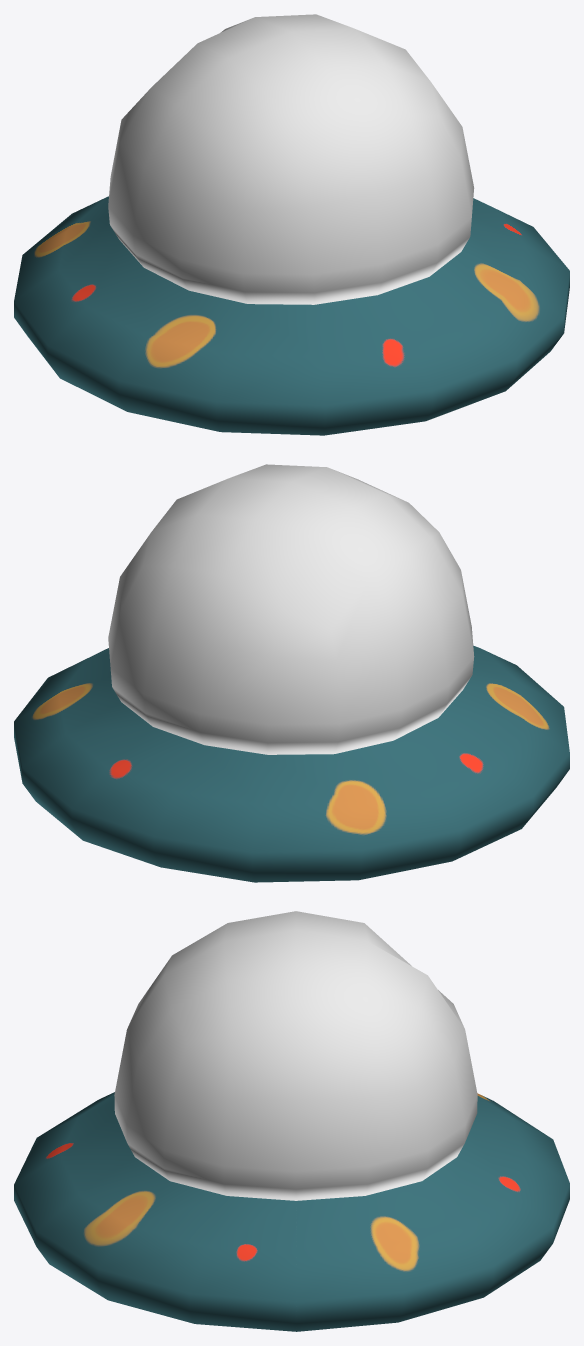
Rendered from gato.fbx.
The picture shows the model from 3 angles, top to bottom: view 1: azimuth 30°, elevation 25°; view 2: azimuth 150°, elevation 25°; view 3: azimuth 270°, elevation 25°; orthographic projection.
Parts seen in each view (by area): view 1: Cube; view 2: Cube; view 3: Cube.
Part boxes in pixels (x1,y1,x2,y2): Cube: (14, 14, 569, 435); Cube: (14, 464, 569, 882); Cube: (14, 911, 569, 1331).
Size of the model in its own units: 360 by 232 by 358.
Materials: 3 (2 with a texture image).
